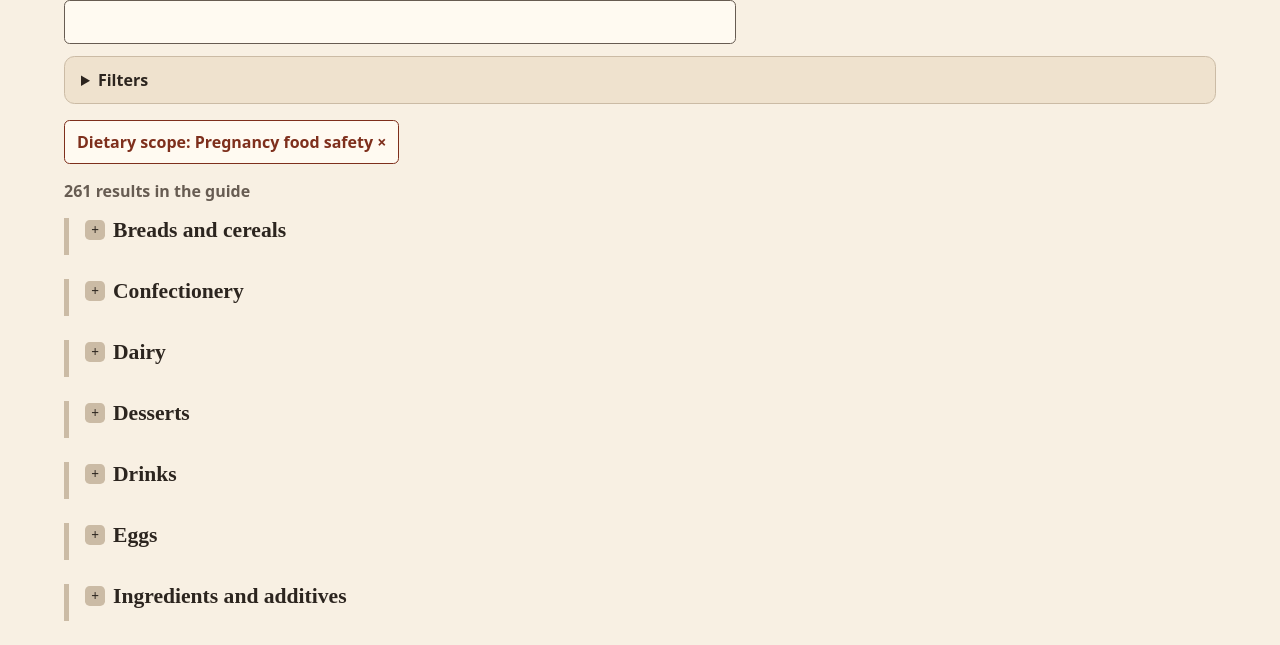
Test: CataloguePage collapsed-row chips › summarises a uniformly okay category with its own solid chip
(page scrolled)
Click the button "+ Dairy" at (125, 352), box top-left (85, 340), bottom-right (166, 365)
(page scrolled)
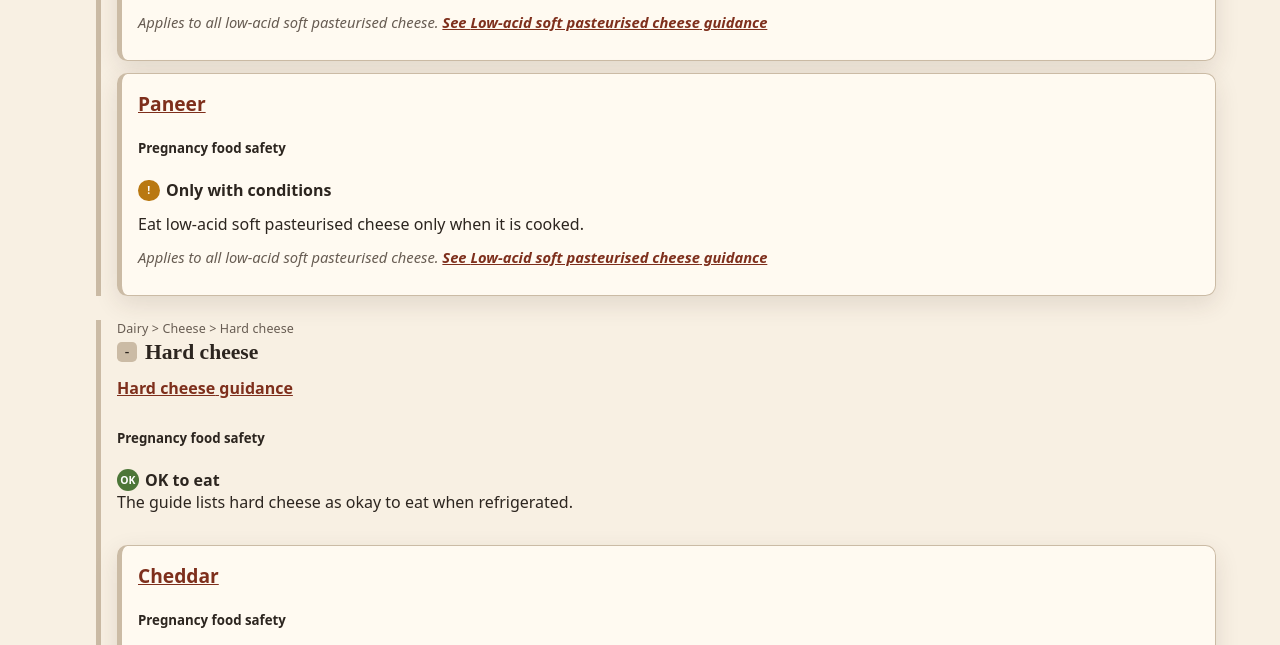
Click the button "- Hard cheese" at (188, 352), box top-left (117, 340), bottom-right (258, 365)
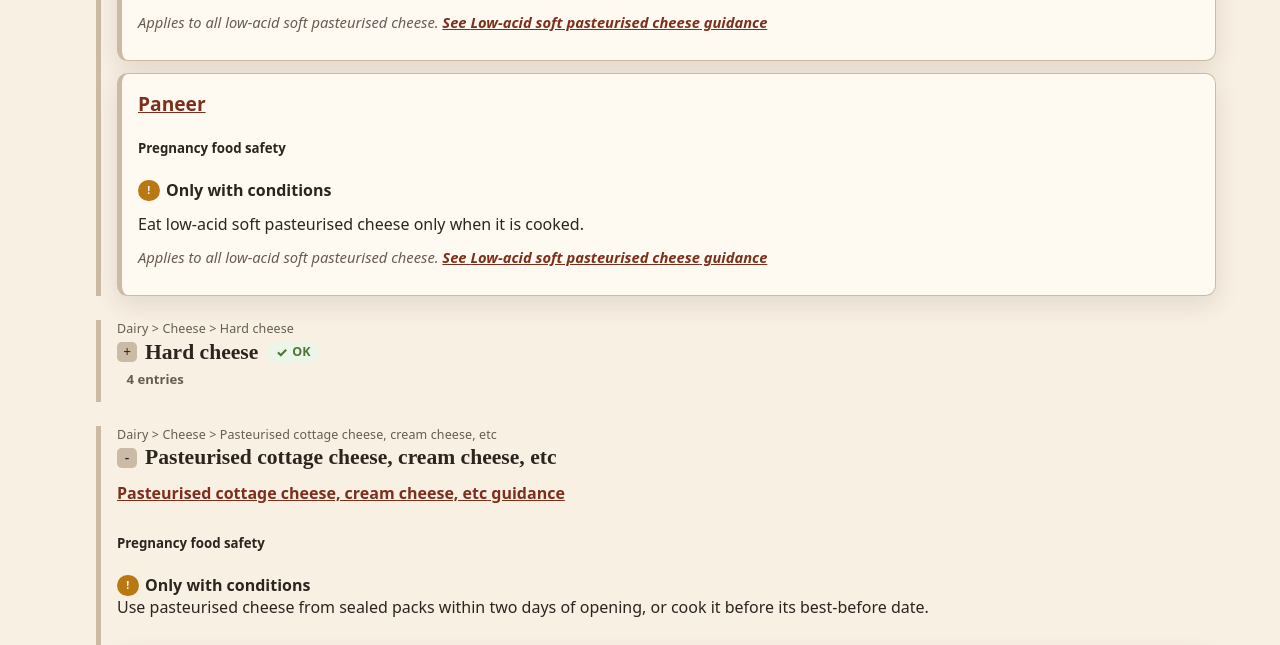
expect the element with class "aggregate-chip" shows "OK": met, box top-left (292, 343), bottom-right (310, 360)
